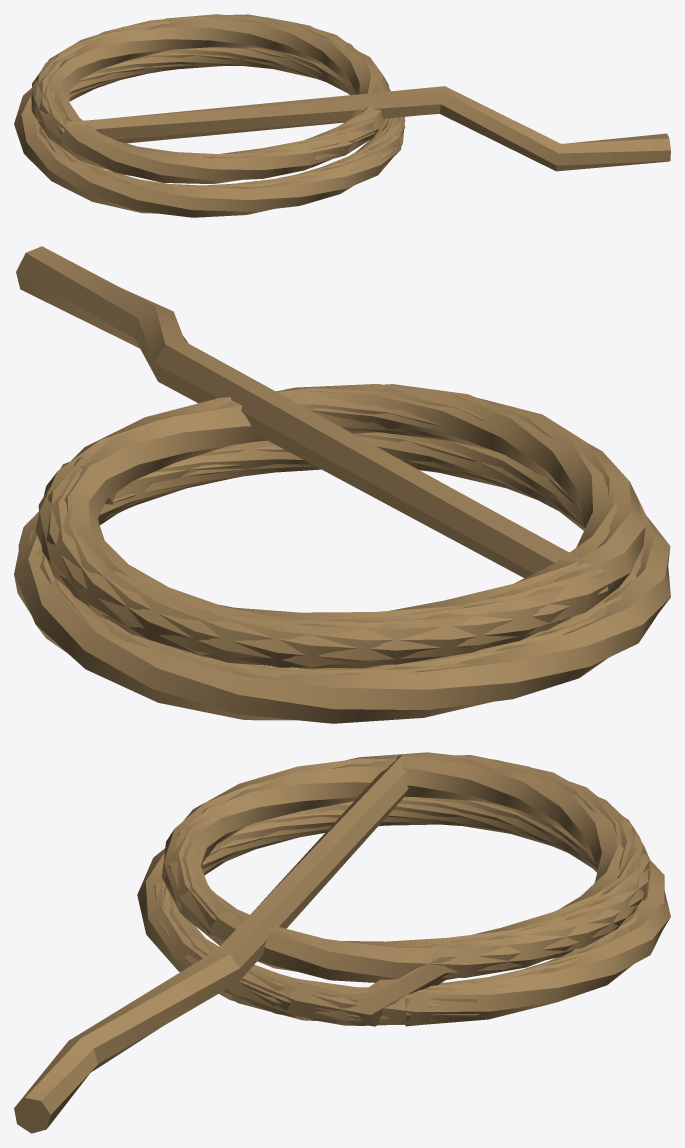
The model's file is deco_bundle_rope_coil.fbx.
The picture shows the model from 3 angles, top to bottom: view 1: azimuth 30°, elevation 25°; view 2: azimuth 150°, elevation 25°; view 3: azimuth 270°, elevation 25°; orthographic projection. The views are drawn at different scales.
Parts seen in each view (by area): view 1: Bundle_RopeCoil_Coil; view 2: Bundle_RopeCoil_Coil; view 3: Bundle_RopeCoil_Coil.
Boxes of the visible parts, x1,y1,x2,y2 form: Bundle_RopeCoil_Coil: (14, 14, 670, 217); Bundle_RopeCoil_Coil: (14, 246, 670, 723); Bundle_RopeCoil_Coil: (14, 752, 670, 1133).
Size of the model in its own units: 108 by 12.74 by 92.02.
